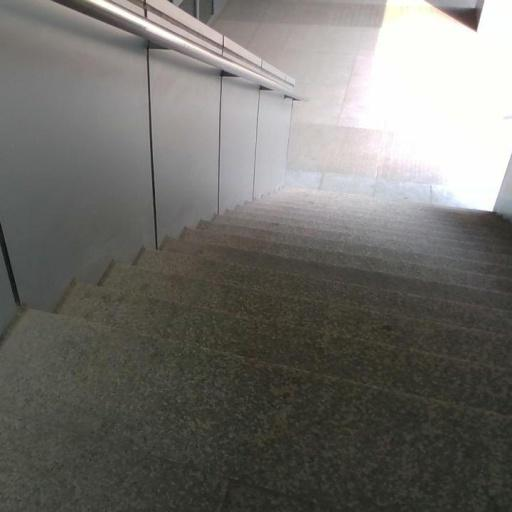stairs: (0, 191, 511, 511)
